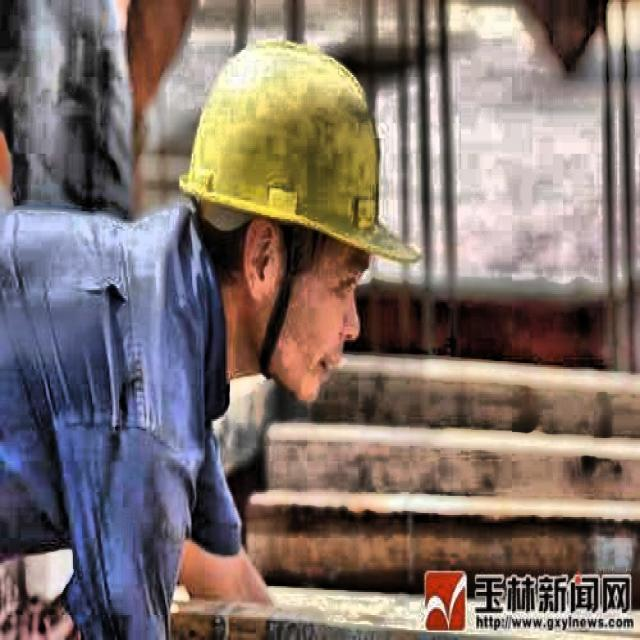helmet: (158, 0, 423, 386)
